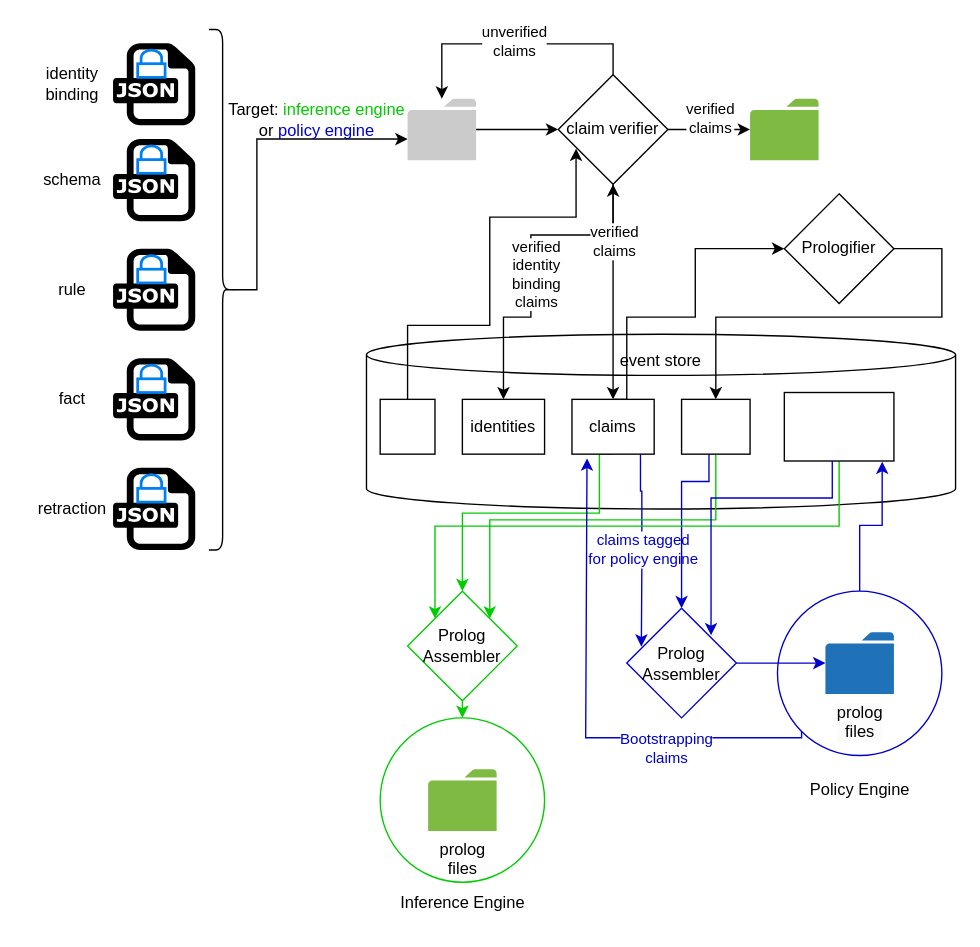
Image size: 980x947. Some labels were removed from this diagram. The shapes that lost their labels are listed below. From the top down, each one's centre as x and y in pixels, then its label:
At pixel 441 129: "input VC claims".
At pixel 783 129: "Verified VCs".
At pixel 407 426: "Root keys".
At pixel 715 426: "prolog for claims".
At pixel 838 426: "Policy Decisions for claims".
